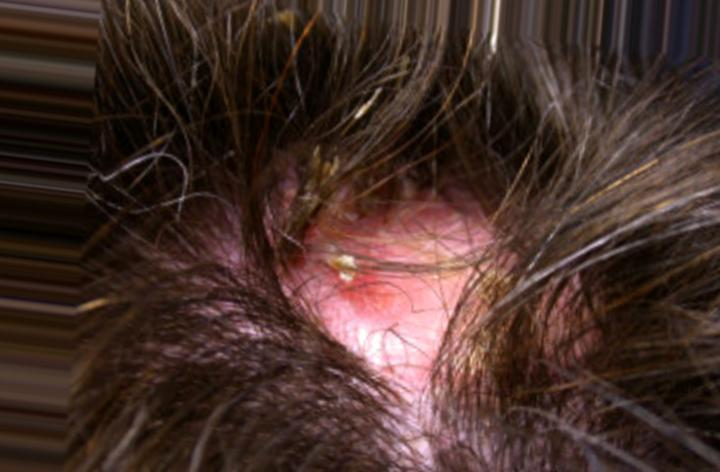Folliculitis: (233, 168, 484, 374)
